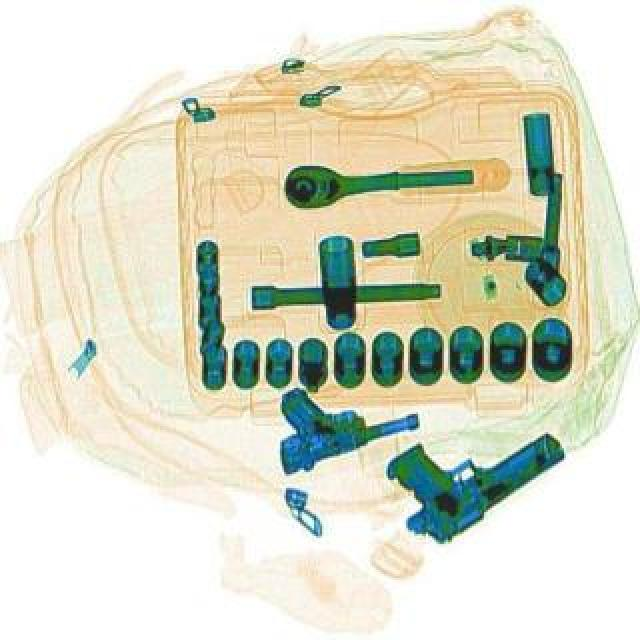gun: (364, 384, 572, 560), (256, 358, 424, 480)
